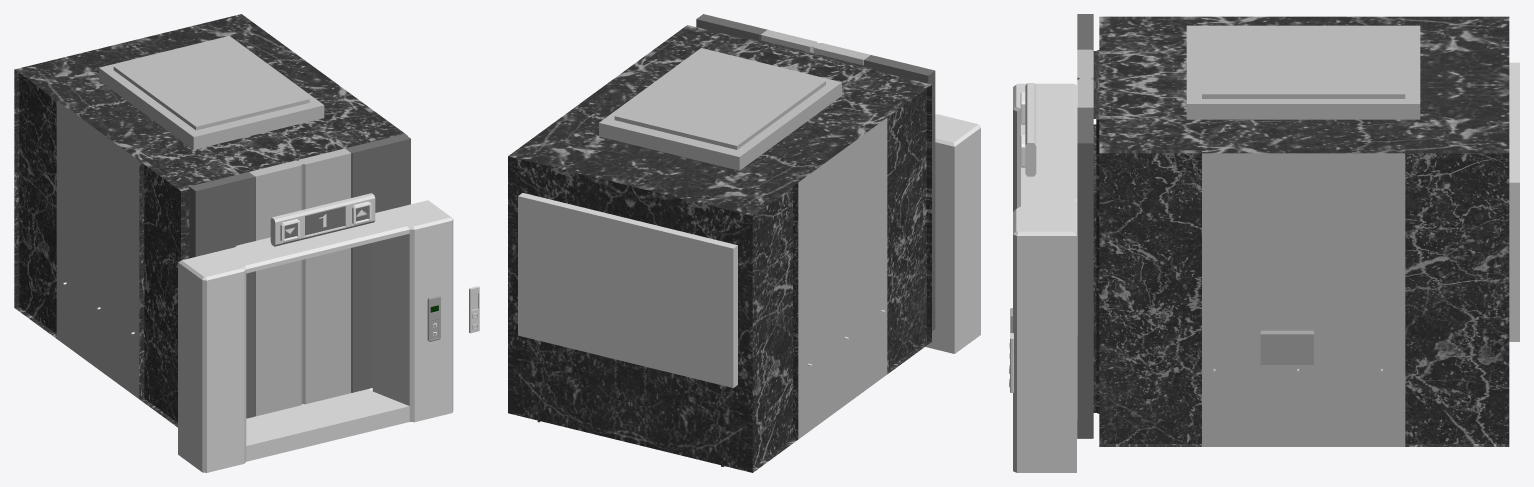
Rendered from elevator-textureFix.fbx.
The picture shows the model from 3 angles, left to right: view 1: azimuth 30°, elevation 25°; view 2: azimuth 150°, elevation 25°; view 3: azimuth 270°, elevation 25°; orthographic projection. The views are drawn at different scales.
Parts seen in each view (by area): view 1: Elevator, door, door_r, door_l, floor_screen, Plane.001, floor_bt, Cube.001; view 2: Elevator, mirror, door, door_l, door_r; view 3: Elevator, door, door_r, mirror, elevator_bt, floor_screen, door_l.
Boxes of the visible parts, x1,y1,x2,y2 form: Elevator: (14, 14, 407, 427); door: (178, 200, 453, 472); door_r: (298, 134, 410, 404); door_l: (189, 160, 302, 418); floor_screen: (270, 193, 375, 246); Plane.001: (305, 207, 344, 235); floor_bt: (427, 295, 440, 341); Cube.001: (469, 286, 479, 333); Elevator: (508, 25, 931, 472); mirror: (518, 193, 737, 387); door: (925, 114, 980, 353); door_l: (813, 43, 935, 330); door_r: (696, 14, 817, 52); Elevator: (1093, 16, 1509, 446); door: (1013, 83, 1092, 472); door_r: (1077, 78, 1093, 438); mirror: (1509, 62, 1519, 341); elevator_bt: (1260, 330, 1313, 364); floor_screen: (1025, 83, 1036, 176); door_l: (1077, 14, 1093, 79).
Size of the model in its own units: 1334 by 1272 by 1746.
